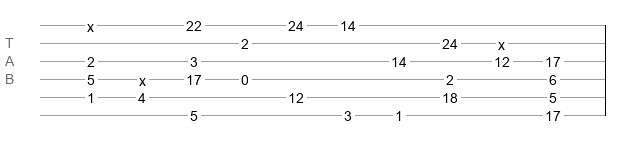0: (241, 72, 249, 82)
1: (87, 90, 95, 100), (395, 108, 403, 118)
12: (288, 90, 304, 100), (494, 54, 510, 64)
14: (340, 18, 356, 28), (391, 54, 407, 64)
17: (186, 72, 202, 82), (545, 54, 561, 64), (545, 108, 561, 118)
18: (442, 90, 458, 100)
2: (87, 54, 95, 64), (241, 36, 249, 46), (446, 72, 454, 82)
22: (186, 18, 202, 28)
24: (288, 18, 304, 28), (442, 36, 458, 46)
3: (190, 54, 198, 64), (344, 108, 352, 118)
4: (138, 90, 146, 100)
5: (87, 72, 95, 82), (190, 108, 198, 118), (549, 90, 557, 100)
6: (549, 72, 557, 82)
x: (87, 19, 94, 27), (139, 73, 146, 81), (498, 37, 505, 45)
